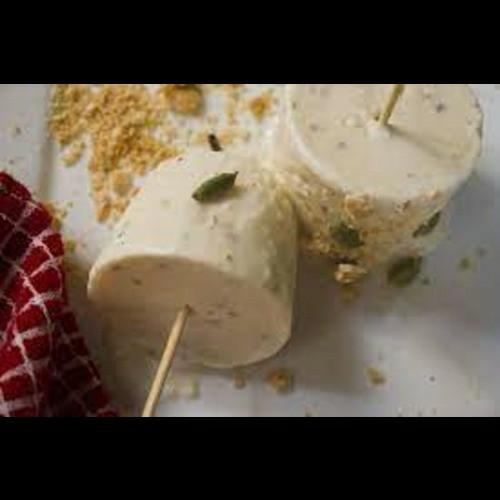Kulfi: (88, 152, 306, 366), (275, 85, 481, 259)
